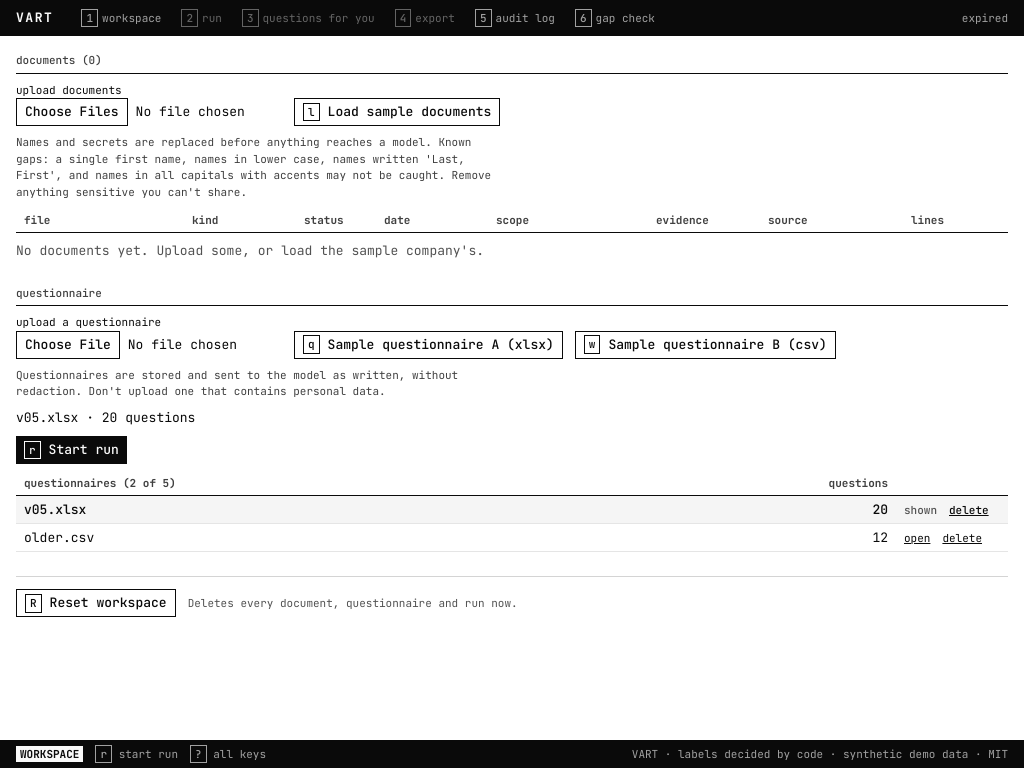
Scenario: Workspace › deleting the shown questionnaire shows the next one
Click the button with aria-label "Delete v05.xlsx". click: (969, 510)
box: x1=949 y1=502 x2=989 y2=518
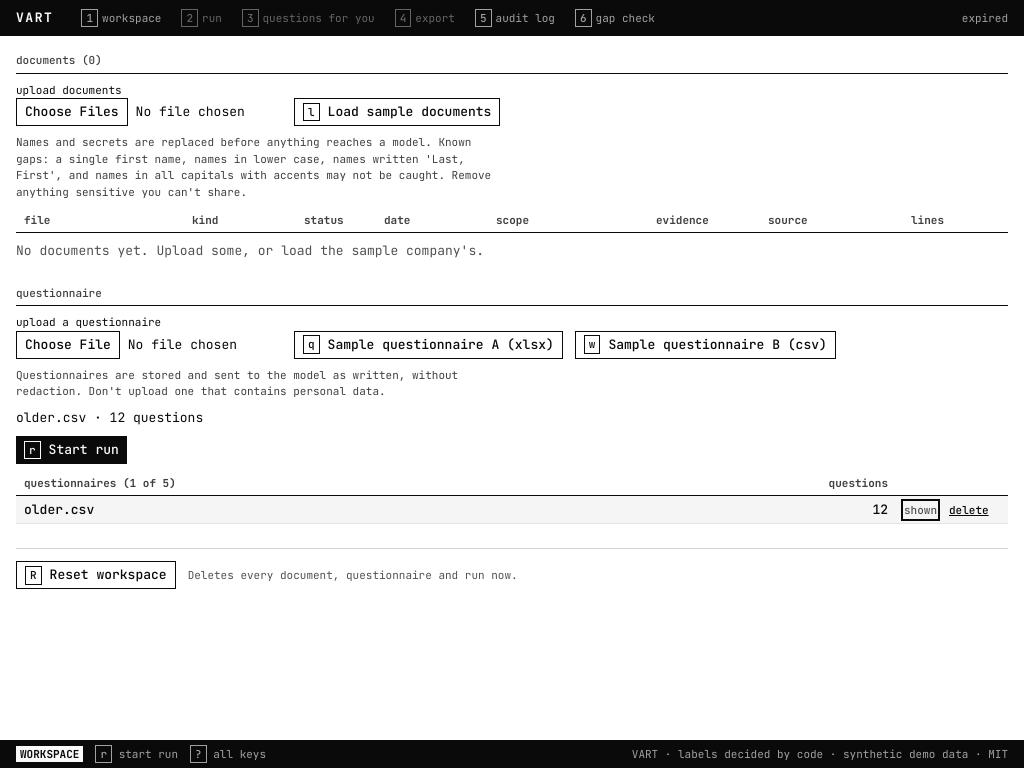
Now the text "12 questions" is shown, box x1=110 y1=409 x2=203 y2=426
